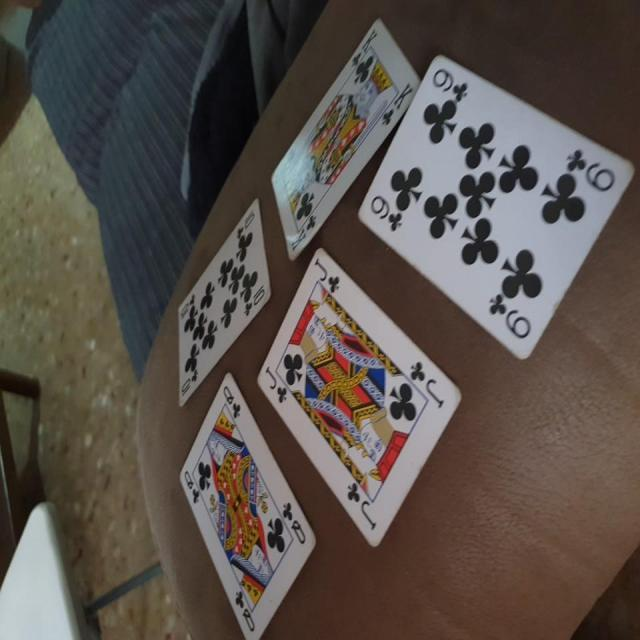10 of clubs: (175, 198, 274, 407)
9 of clubs: (356, 48, 634, 359)
jack of clubs: (256, 250, 466, 546)
king of clubs: (269, 11, 419, 265)
queen of clubs: (180, 370, 316, 640)
